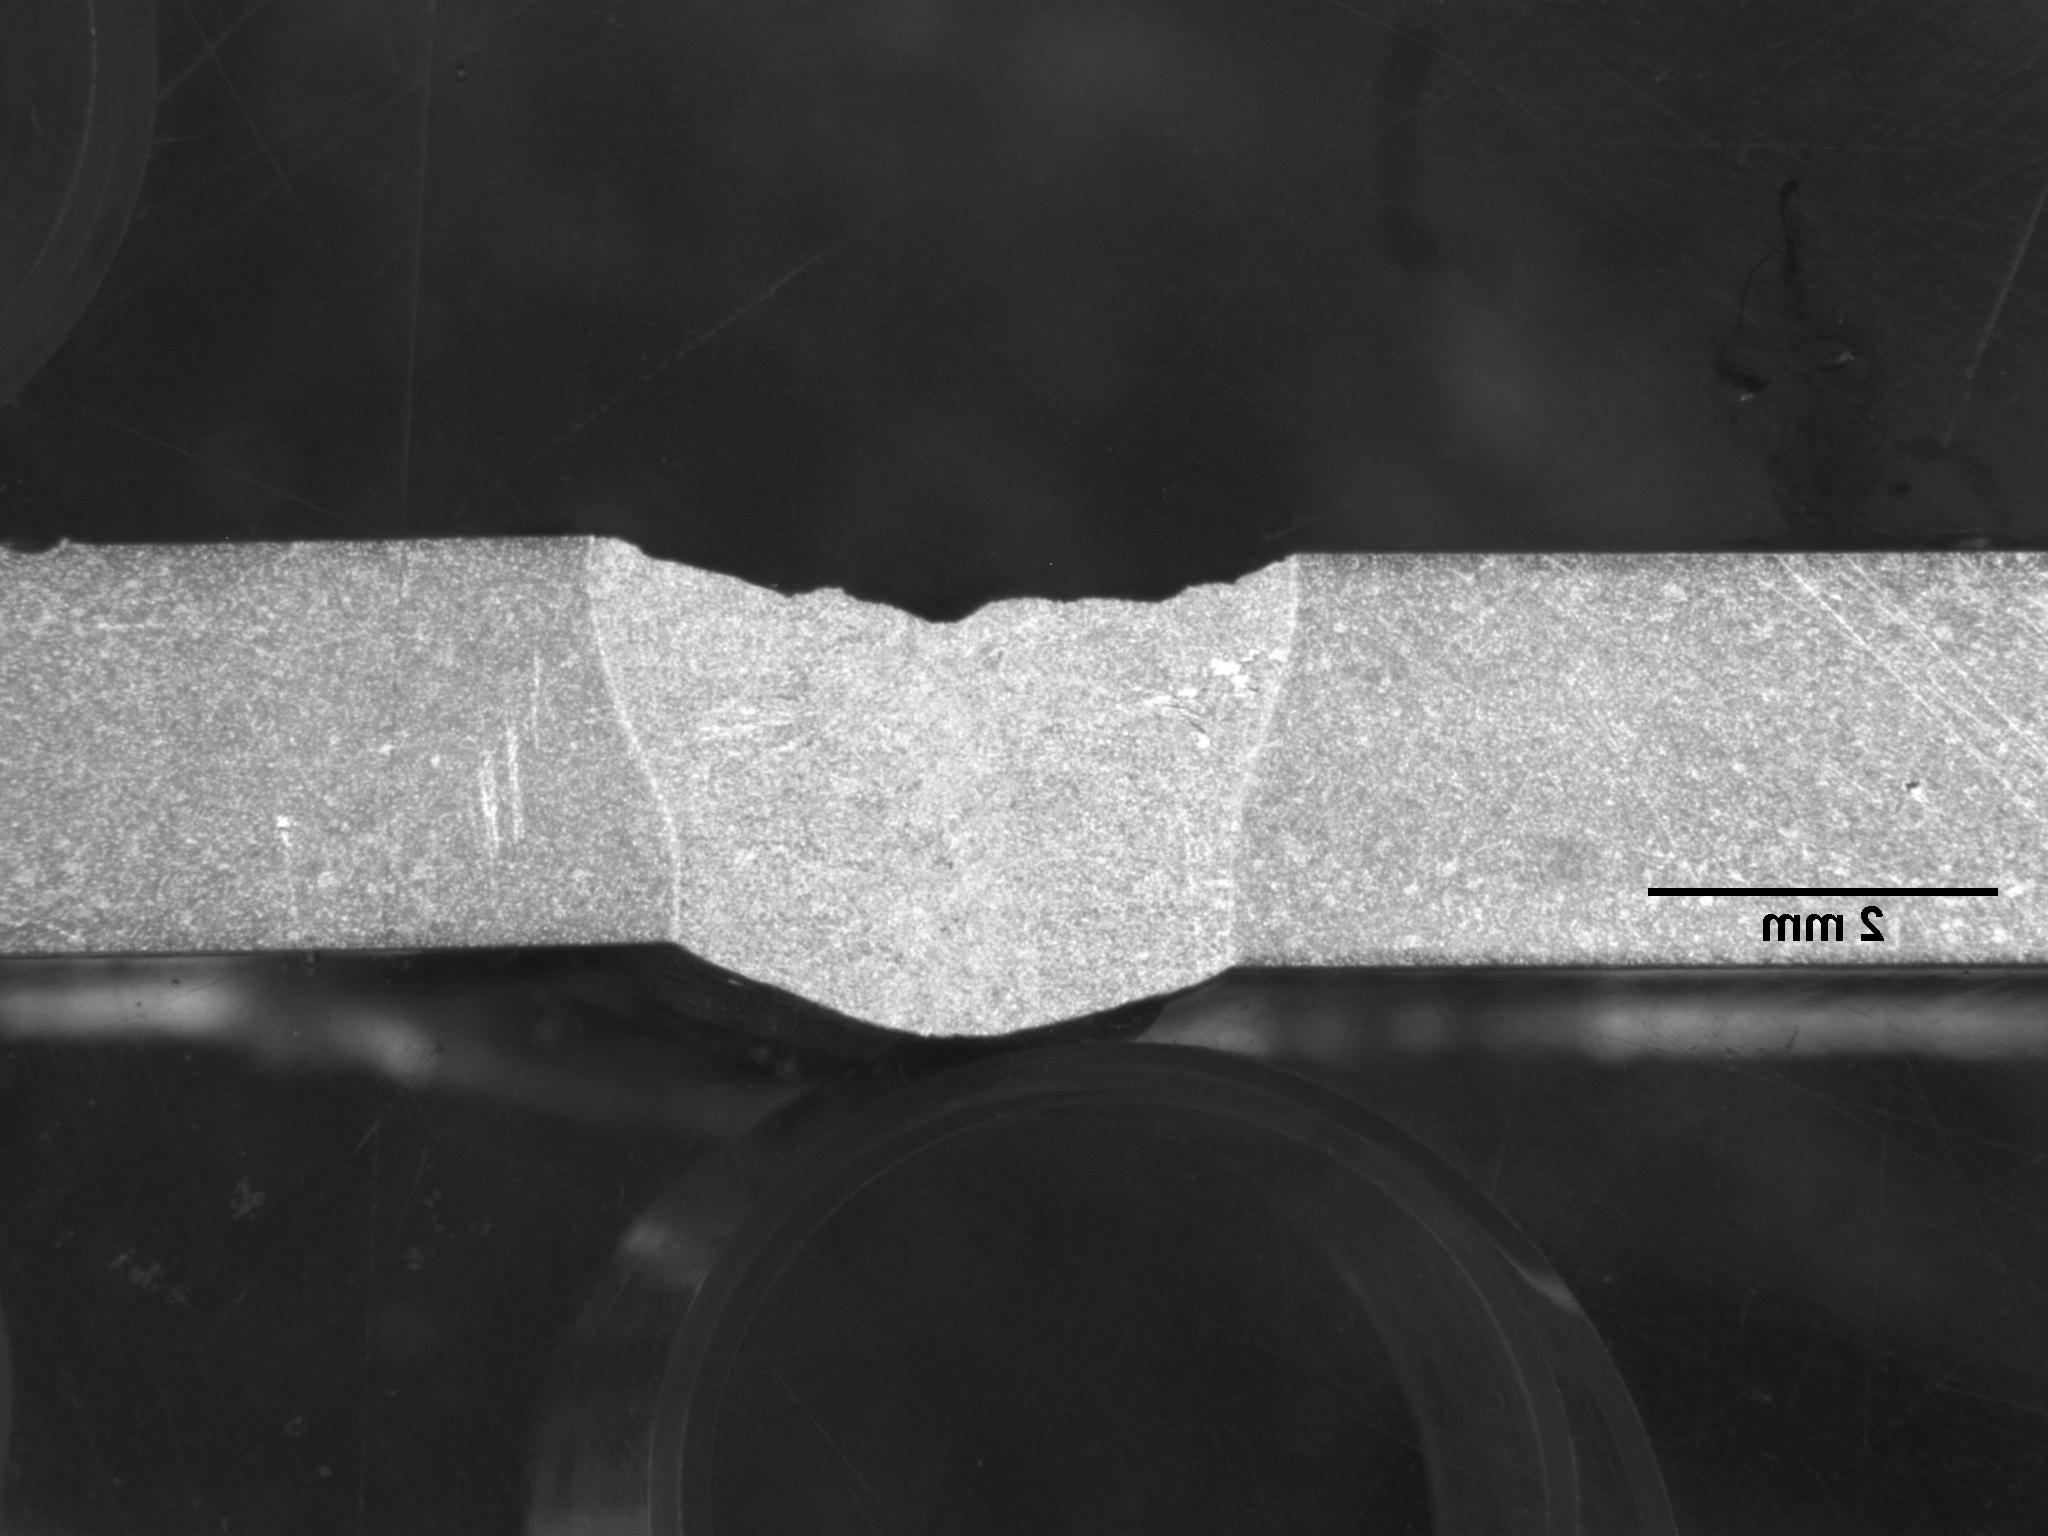Scale-bar: (1637, 876, 2008, 949)
